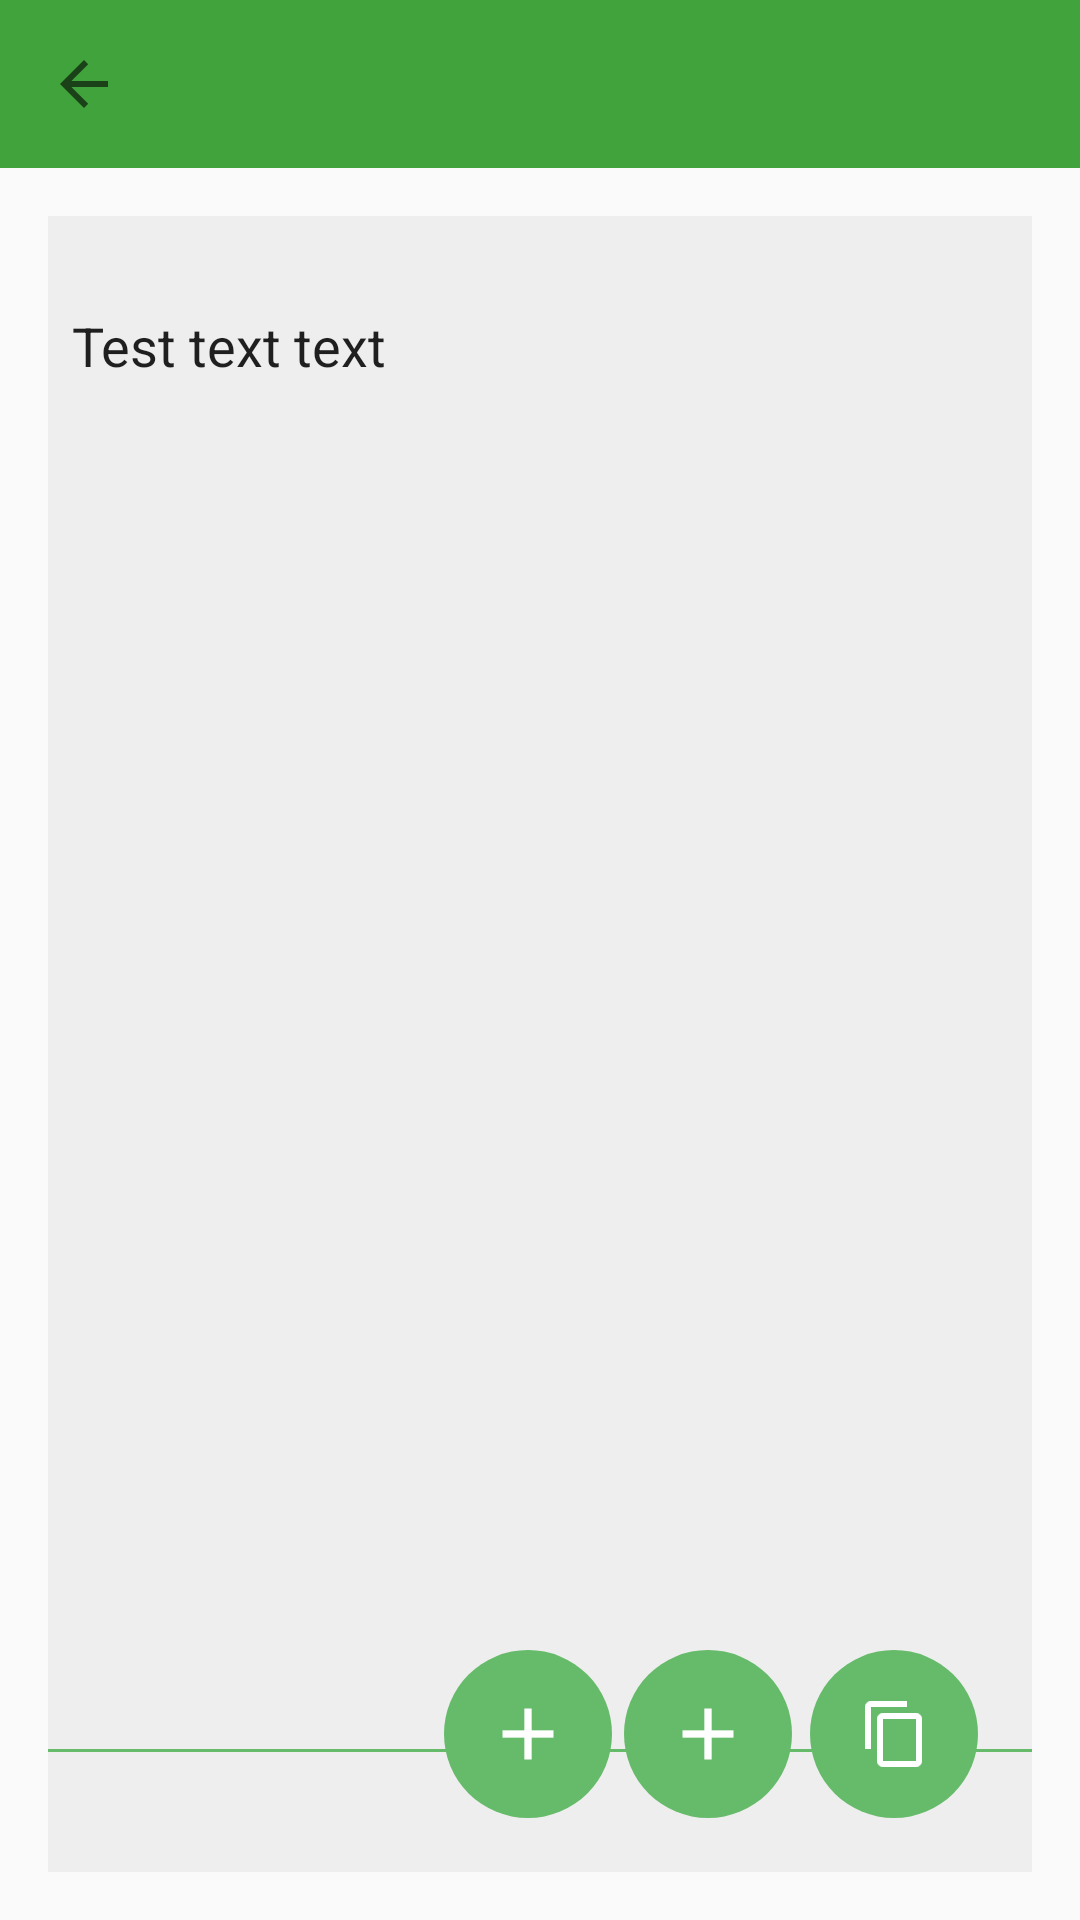

Named icons in this screenshot (1080x1920) and their bounding boxes, [left=x1, top=y1, right=x2, bottom=y2]:
add: [left=444, top=1650, right=612, bottom=1818], [left=624, top=1650, right=792, bottom=1818]
